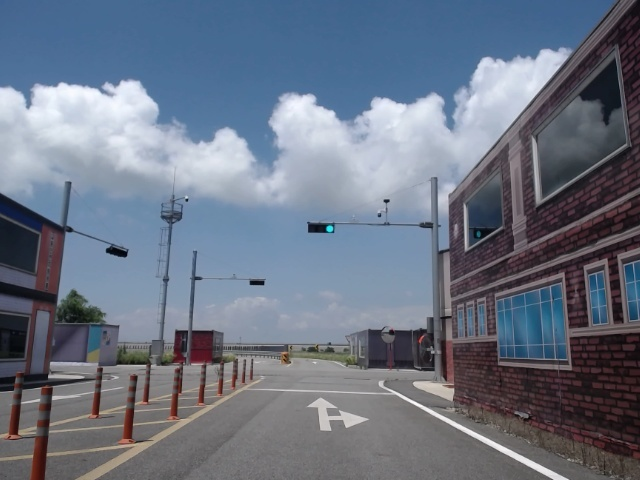green_3: (309, 224, 332, 232)
